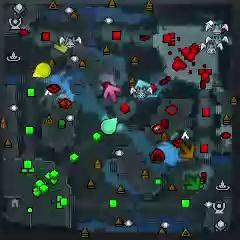p2: (101, 117, 120, 134)
p4: (32, 62, 52, 79)
x1: (104, 85, 121, 102)
x2: (54, 36, 71, 54)
x3: (134, 80, 152, 92)
x4: (185, 175, 201, 191)
x5: (179, 142, 196, 159)
